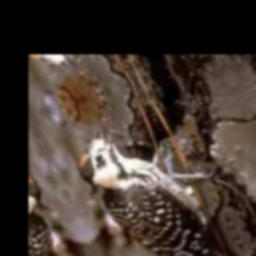Woodpecker: (57, 87, 239, 256)
